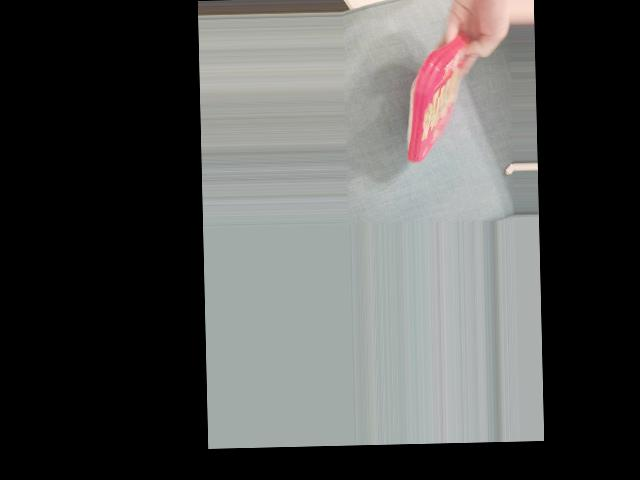cheese: (402, 40, 473, 161)
